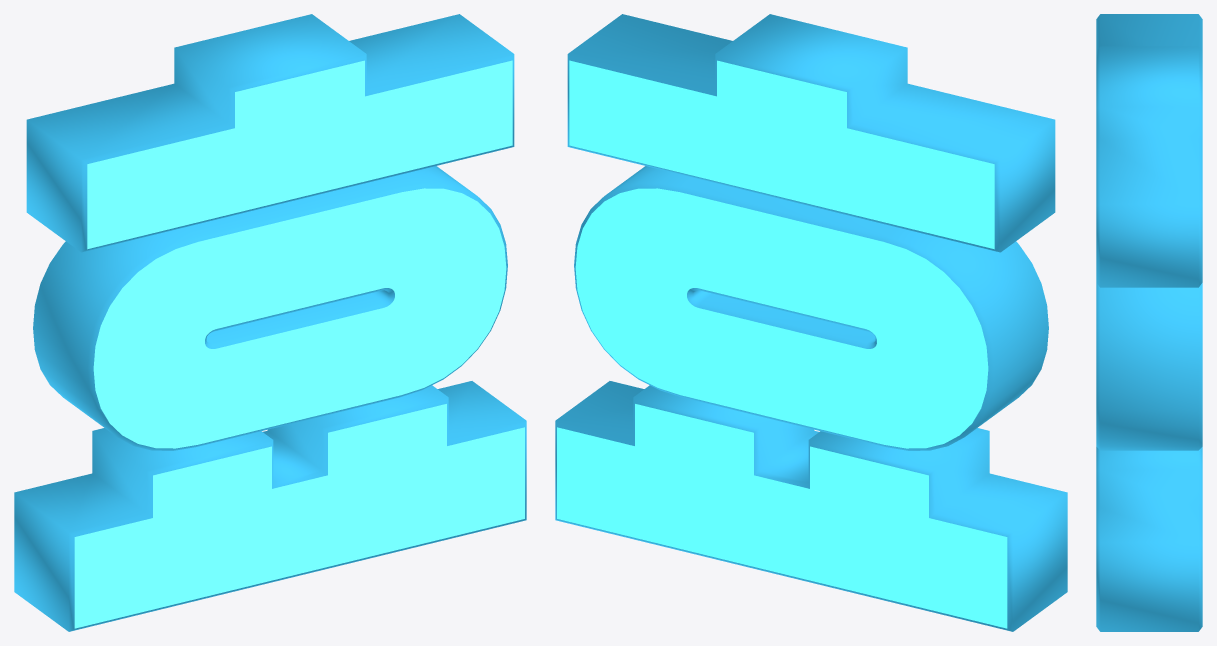
The picture shows the model from 3 angles, left to right: view 1: azimuth 30°, elevation 25°; view 2: azimuth 150°, elevation 25°; view 3: azimuth 270°, elevation 25°; orthographic projection. The views are drawn at different scales.
Visible parts, largest first — view 1: glyph; view 2: glyph; view 3: glyph.
Boxes of the visible parts, x1=… form: glyph: x1=14, y1=14, x2=526, y2=631; glyph: x1=555, y1=14, x2=1067, y2=631; glyph: x1=1096, y1=14, x2=1202, y2=631.
Bounding box in the file's own units: 0.1009 × 0.1064 × 0.0225.
